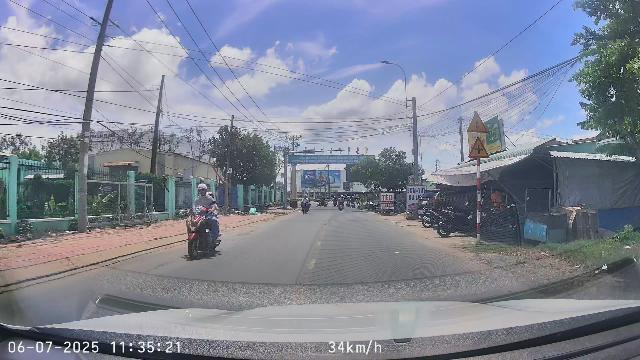209-giao-nhau-co-tin-hieu-den: (467, 112, 487, 132)
